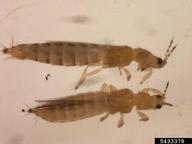Thrips: (3, 29, 173, 84), (27, 80, 177, 127)
